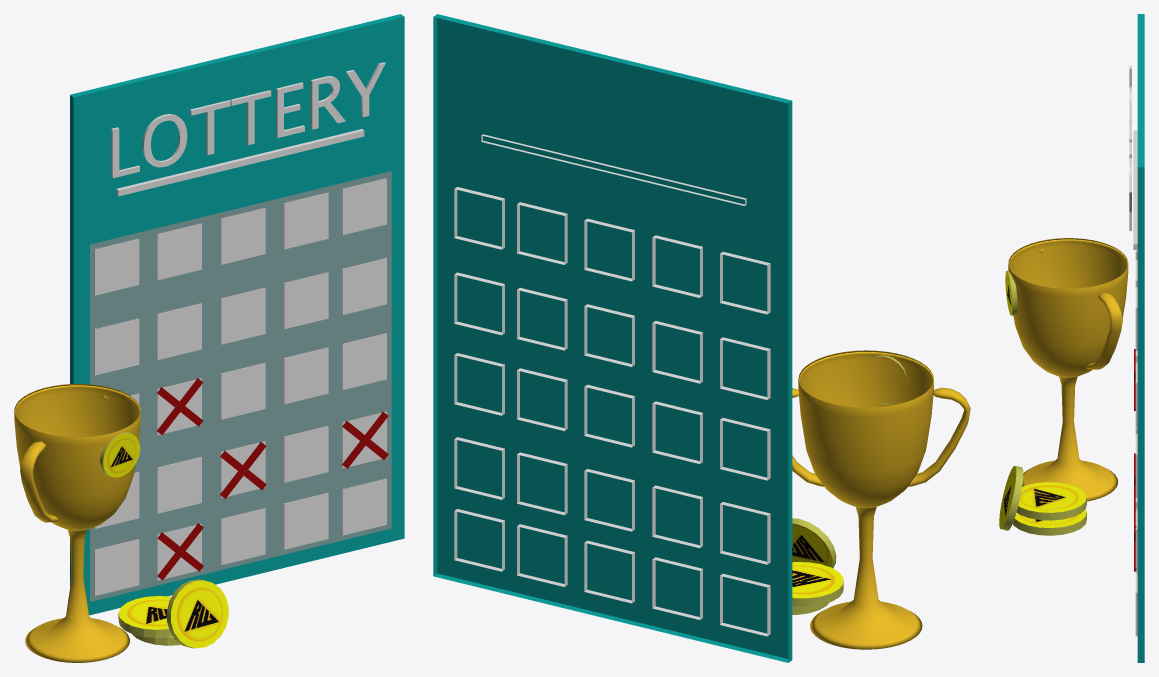
The model's file is cash counter  fbx.fbx.
3 views of the same model, side by side, from view 1: azimuth 30°, elevation 25°; view 2: azimuth 150°, elevation 25°; view 3: azimuth 270°, elevation 25° (orthographic). The views are drawn at different scales.
Parts seen in each view (by area): view 1: polySurface98, polySurface106, polySurface153, pasted__pCylinder7, polySurface55, polySurface115, polySurface118, polySurface119, polySurface123, polySurface124, polySurface117, polySurface122 (+27 smaller); view 2: polySurface98, polySurface153, pasted__pCylinder8, pasted__pCylinder7, polySurface155, polySurface55; view 3: polySurface153, polySurface98, pasted__pCylinder8, pasted__pCylinder4, polySurface154, pasted__pCylinder7, polySurface55, pasted__pCylinder9.
Boxes of the visible parts, x1,y1,x2,y2 form: polySurface98: (70,14,404,615); polySurface106: (90,171,391,601); polySurface153: (14,384,140,662); pasted__pCylinder7: (167,579,228,648); polySurface55: (116,129,364,196); polySurface115: (283,347,328,404); polySurface118: (283,272,328,329); polySurface119: (283,192,328,249); polySurface123: (94,318,139,375); polySurface124: (94,239,139,295); polySurface117: (283,493,328,549); polySurface122: (94,539,139,595); polySurface98: (433,14,792,662); polySurface153: (798,350,933,649); pasted__pCylinder8: (792,562,843,606); pasted__pCylinder7: (792,518,836,568); polySurface155: (908,387,970,486); polySurface55: (481,134,746,205); polySurface153: (1008,238,1128,501); polySurface98: (1137,14,1144,662); pasted__pCylinder8: (1016,482,1086,520); pasted__pCylinder4: (1012,509,1086,535); polySurface154: (1086,292,1122,369); pasted__pCylinder7: (999,466,1023,530); polySurface55: (1133,130,1137,249); pasted__pCylinder9: (1005,270,1017,315).
Bounding box in the file's own units: 11.62 × 13.15 × 3.5.
